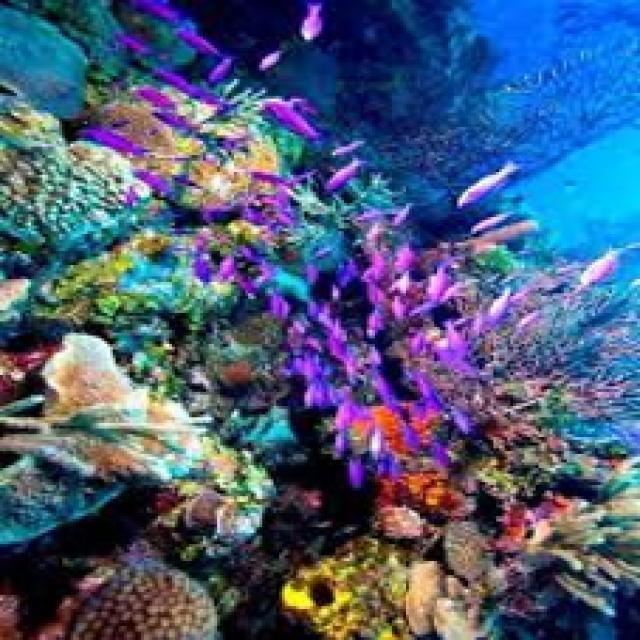Healthy: (112, 94, 277, 207), (63, 563, 221, 638), (284, 548, 414, 638), (534, 505, 640, 614), (164, 453, 268, 545), (45, 249, 164, 329), (379, 467, 472, 524), (355, 403, 433, 450), (443, 529, 493, 581)
